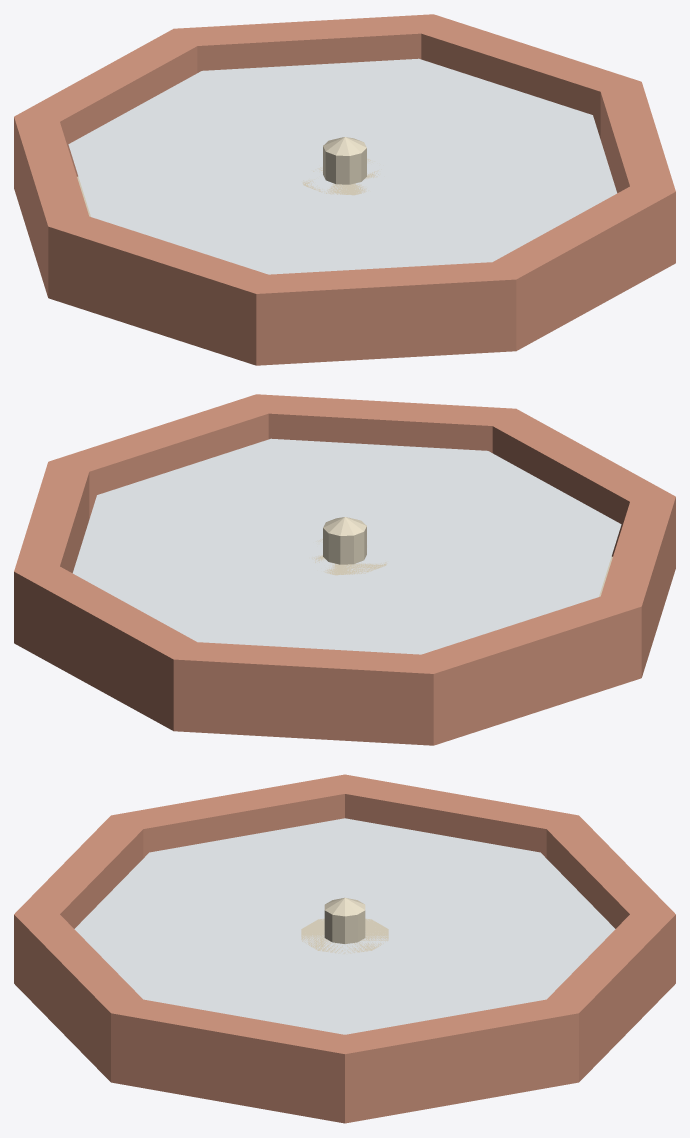
The model's file is kit_fountain.glb.
3 views of the same model, one above another, from view 1: azimuth 30°, elevation 25°; view 2: azimuth 150°, elevation 25°; view 3: azimuth 270°, elevation 25° (orthographic). The views are drawn at different scales.
Visible parts, largest first — view 1: kit_fountain; view 2: kit_fountain; view 3: kit_fountain.
Boxes of the visible parts, box(x1,y1,x2,y2) form: kit_fountain: box(14, 14, 675, 365); kit_fountain: box(14, 394, 675, 745); kit_fountain: box(14, 774, 675, 1123).
Bounding box in the file's own units: 4.33 × 0.62 × 4.33.
